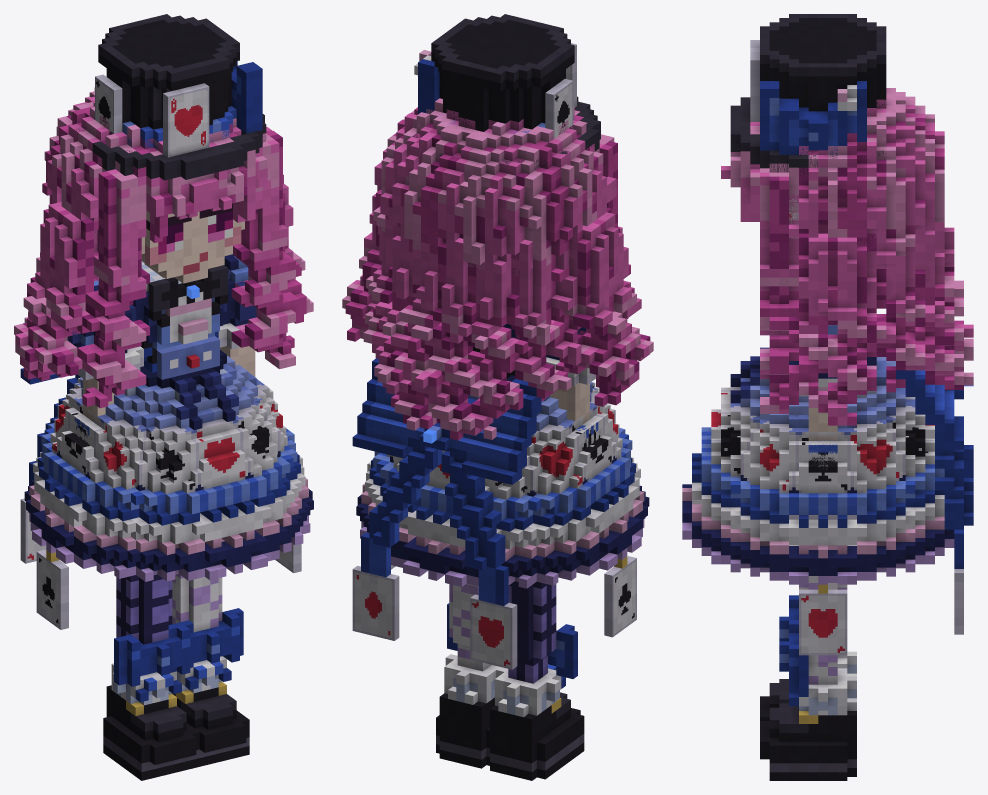
File: trap_trick.glb
The picture shows the model from 3 angles, left to right: view 1: azimuth 30°, elevation 25°; view 2: azimuth 150°, elevation 25°; view 3: azimuth 270°, elevation 25°; orthographic projection.
Parts seen in each view (by area): view 1: hat__mesh, skirt11__mesh, skirt0__mesh, skirt10__mesh, head__mesh, shinR__mesh, lockR1__mesh, footR__mesh, skirt1__mesh, shinL__mesh, chest__mesh, back0a__mesh (+18 smaller); view 2: head__mesh, hat__mesh, crown__mesh, back0a__mesh, skirt8__mesh, bow__mesh, back0b__mesh, back2b__mesh, shinR__mesh, footR__mesh, skirt9__mesh, skirt6__mesh (+20 smaller); view 3: hat__mesh, head__mesh, back4a__mesh, skirt3__mesh, skirt2__mesh, skirt4__mesh, back4b__mesh, crown__mesh, skirt1__mesh, footL__mesh, skirt5__mesh, lockL1__mesh (+14 smaller).
Part boxes in pixels (<box>): hat__mesh: <box>74,14,266,180</box>; skirt11__mesh: <box>127,372,204,581</box>; skirt0__mesh: <box>175,370,267,580</box>; skirt10__mesh: <box>74,369,156,578</box>; head__mesh: <box>42,109,271,279</box>; shinR__mesh: <box>111,577,193,702</box>; lockR1__mesh: <box>85,168,149,315</box>; footR__mesh: <box>103,681,199,780</box>; skirt1__mesh: <box>203,366,306,561</box>; shinL__mesh: <box>168,574,243,689</box>; chest__mesh: <box>132,261,230,350</box>; back0a__mesh: <box>27,199,97,318</box>; head__mesh: <box>369,119,616,283</box>; hat__mesh: <box>412,14,600,169</box>; crown__mesh: <box>393,98,594,189</box>; back0a__mesh: <box>506,207,636,338</box>; skirt8__mesh: <box>507,375,599,585</box>; bow__mesh: <box>352,358,541,484</box>; back0b__mesh: <box>501,298,653,406</box>; back2b__mesh: <box>391,323,483,440</box>; shinR__mesh: <box>495,584,577,706</box>; footR__mesh: <box>487,692,584,780</box>; skirt9__mesh: <box>554,406,641,570</box>; skirt6__mesh: <box>403,394,479,586</box>; hat__mesh: <box>730,14,904,176</box>; head__mesh: <box>721,131,944,268</box>; back4a__mesh: <box>789,229,925,337</box>; skirt3__mesh: <box>789,415,856,584</box>; skirt2__mesh: <box>730,396,808,580</box>; skirt4__mesh: <box>847,395,915,580</box>; back4b__mesh: <box>789,314,925,425</box>; crown__mesh: <box>740,88,934,180</box>; skirt1__mesh: <box>692,379,769,564</box>; footL__mesh: <box>760,698,856,780</box>; skirt5__mesh: <box>867,364,954,564</box>; lockL1__mesh: <box>760,168,798,316</box>.
Bounding box in the file's own units: 0.792 × 1.94 × 0.72.
